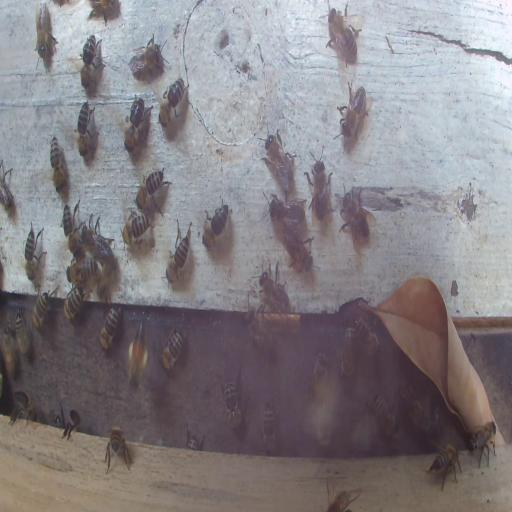bee: (333, 77, 375, 147), (323, 2, 361, 70), (337, 183, 372, 249), (304, 144, 332, 224), (263, 127, 296, 186), (166, 218, 194, 287), (126, 33, 168, 78), (240, 308, 275, 362), (136, 165, 172, 217), (426, 441, 462, 492), (128, 318, 150, 391), (201, 200, 232, 250), (75, 99, 98, 166), (260, 260, 290, 310), (282, 226, 312, 275), (23, 220, 46, 283), (80, 34, 104, 94), (122, 96, 148, 150), (35, 2, 57, 65), (158, 80, 188, 126), (396, 383, 424, 432), (82, 215, 112, 260), (104, 425, 132, 472), (469, 420, 496, 468), (371, 389, 398, 434), (352, 316, 382, 356), (269, 193, 305, 224), (160, 326, 184, 372), (121, 210, 150, 248), (307, 350, 327, 405), (98, 306, 120, 352), (222, 374, 240, 428), (338, 325, 356, 379), (62, 206, 81, 257), (31, 288, 53, 332), (68, 256, 98, 288), (10, 390, 36, 424), (50, 135, 64, 193), (63, 282, 84, 320), (2, 325, 16, 381), (0, 159, 15, 211), (86, 0, 120, 22), (327, 487, 358, 511), (62, 405, 83, 440), (263, 398, 275, 454), (15, 308, 29, 356), (51, 410, 62, 428)
